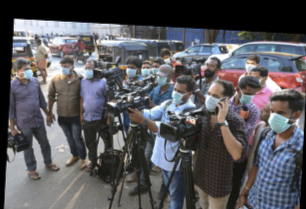with_mask: (268, 106, 292, 134), (205, 90, 224, 112), (171, 86, 189, 104), (238, 91, 255, 105), (18, 65, 33, 79), (125, 65, 138, 78), (60, 63, 72, 76), (156, 74, 168, 87), (84, 65, 95, 79), (245, 61, 257, 73), (140, 64, 150, 76), (150, 64, 160, 76), (161, 55, 171, 64)
without_mask: (203, 62, 217, 77), (259, 106, 270, 121)
